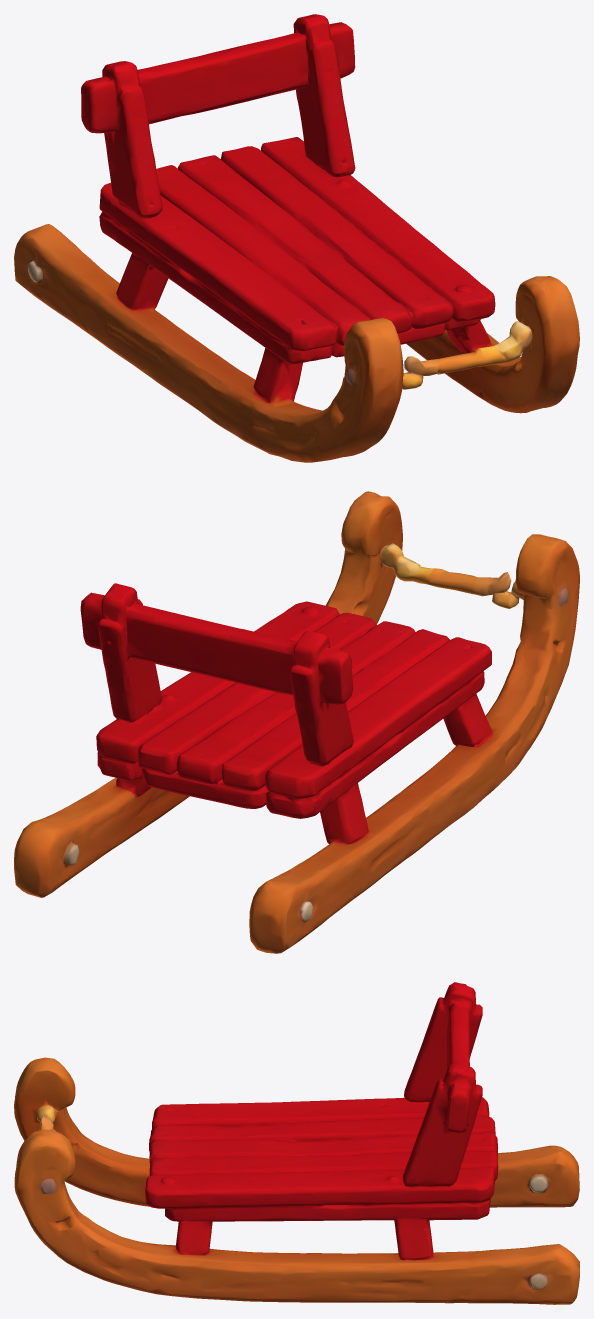
Rendered from sled_v1_raw.glb.
3 views of the same model, one above another, from view 1: azimuth 30°, elevation 25°; view 2: azimuth 150°, elevation 25°; view 3: azimuth 270°, elevation 25° (orthographic). The views are drawn at different scales.
Parts seen in each view (by area): view 1: tripo_node_79835c2a-53a0-4c38-8eca-f69ef0509643; view 2: tripo_node_79835c2a-53a0-4c38-8eca-f69ef0509643; view 3: tripo_node_79835c2a-53a0-4c38-8eca-f69ef0509643.
Boxes of the visible parts, x1=… form: tripo_node_79835c2a-53a0-4c38-8eca-f69ef0509643: x1=14, y1=14, x2=579, y2=462; tripo_node_79835c2a-53a0-4c38-8eca-f69ef0509643: x1=14, y1=491, x2=579, y2=953; tripo_node_79835c2a-53a0-4c38-8eca-f69ef0509643: x1=14, y1=982, x2=579, y2=1304.
Bounding box in the file's own units: 0.484 × 0.442 × 1.
Materials: 1 (1 with a texture image).
